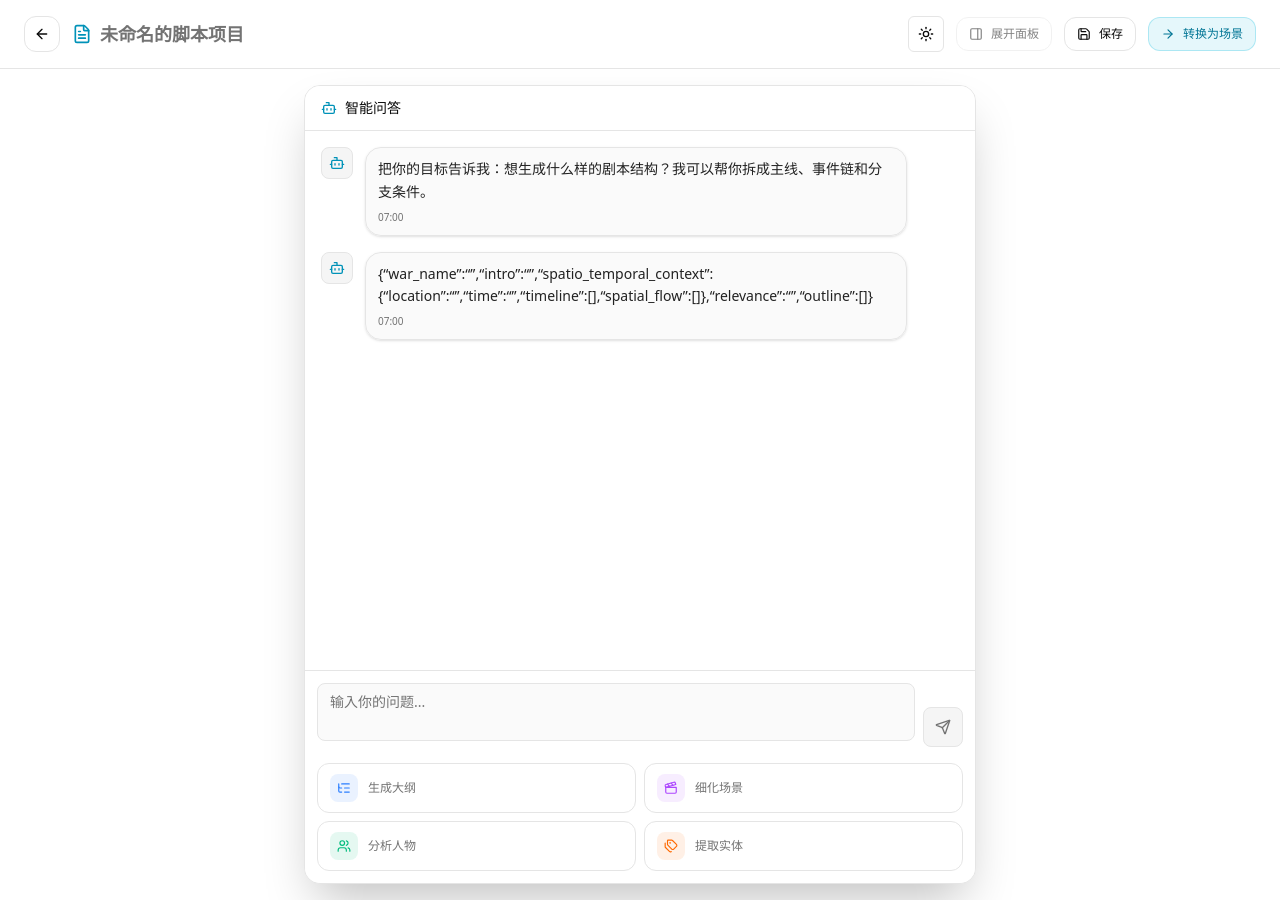
it: Script Page - Q&A Analysis Flow › should allow user to cancel the analysis
This screenshot has width=1280, height=900.
In the text box with placeholder "输入你的问题...": point(616, 712) x1=317 y1=683 x2=915 y2=741, type "取消测试"
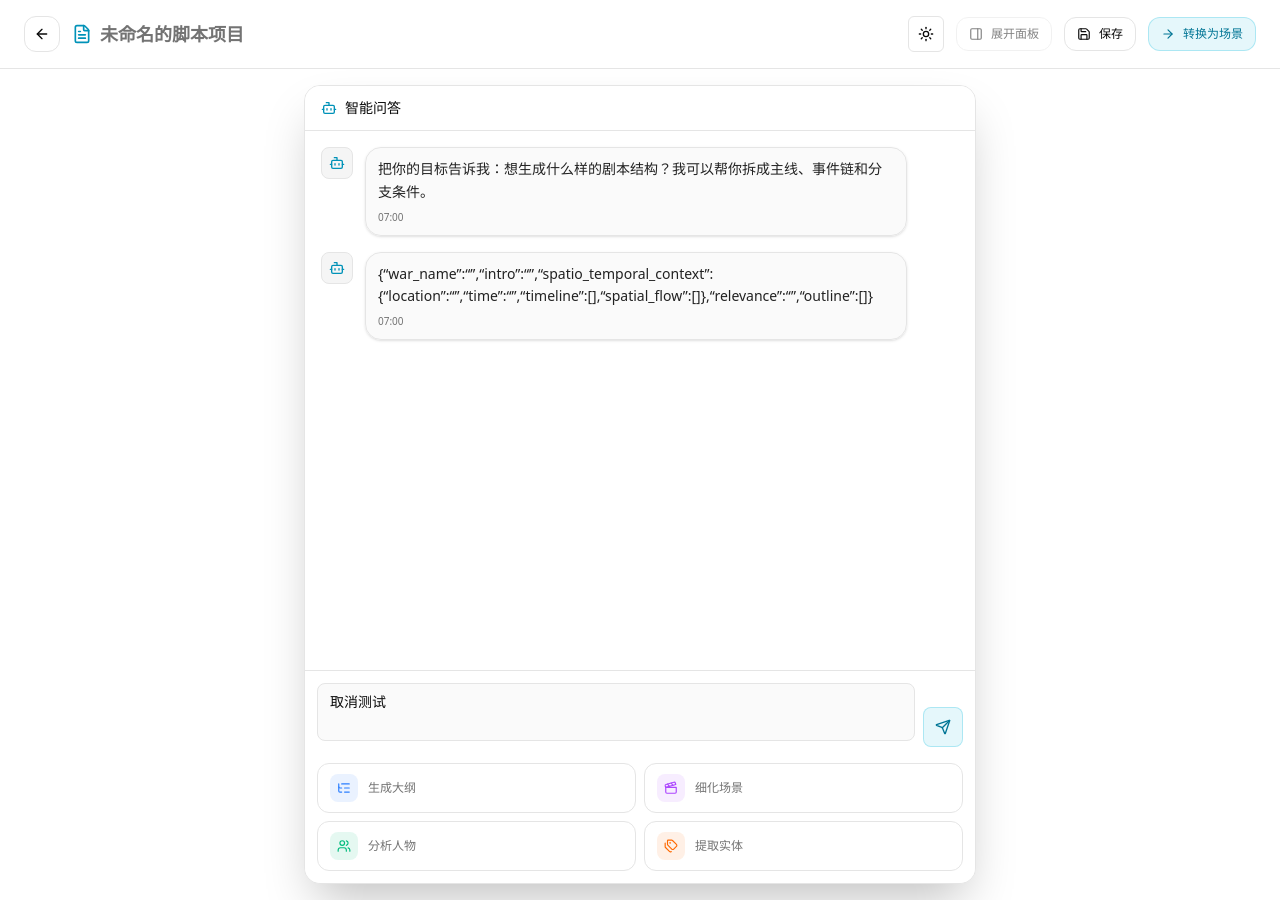
Click the button named "发送问题": point(943, 727) x1=923 y1=707 x2=963 y2=747
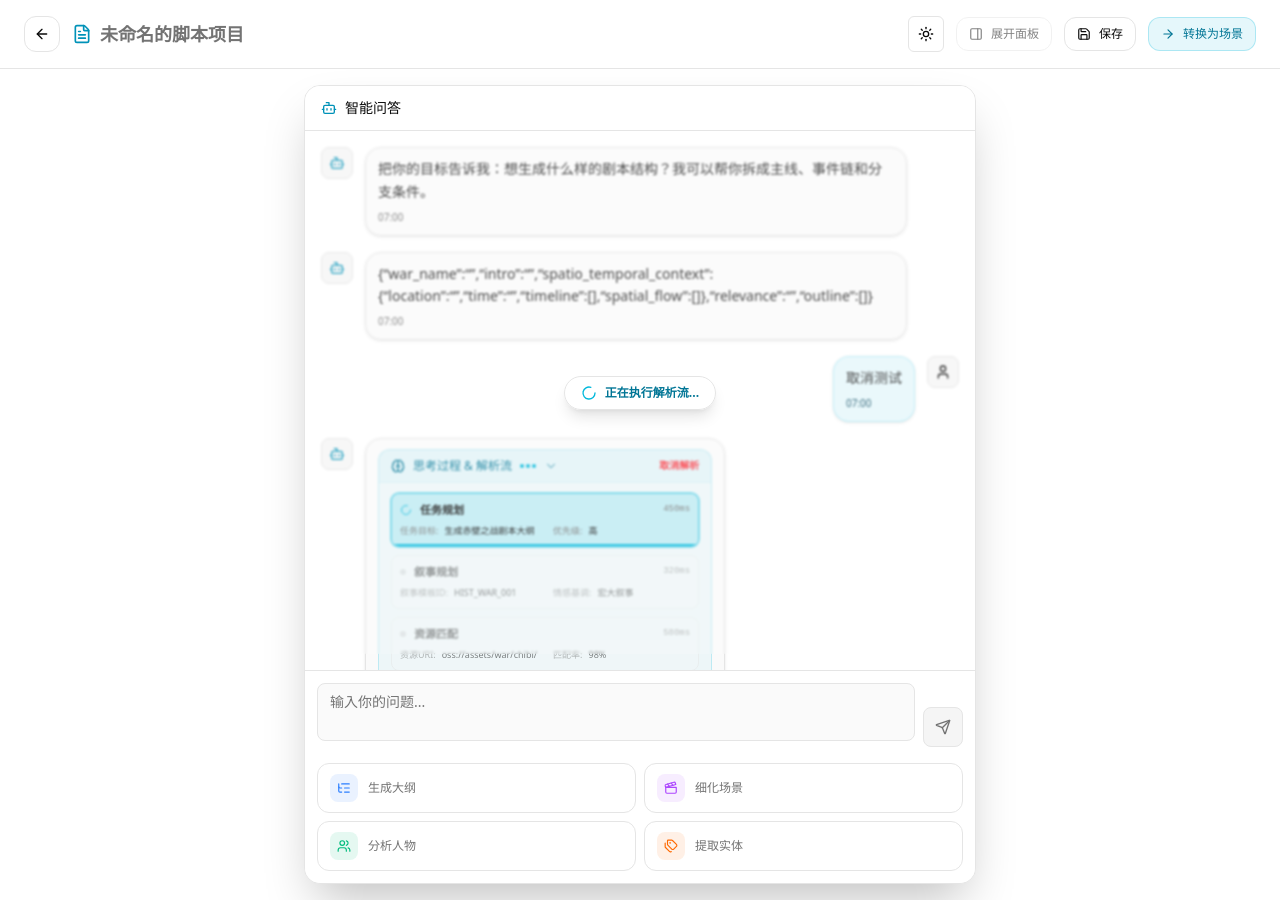
Click the button "取消解析": point(679, 466) x1=659 y1=458 x2=699 y2=473
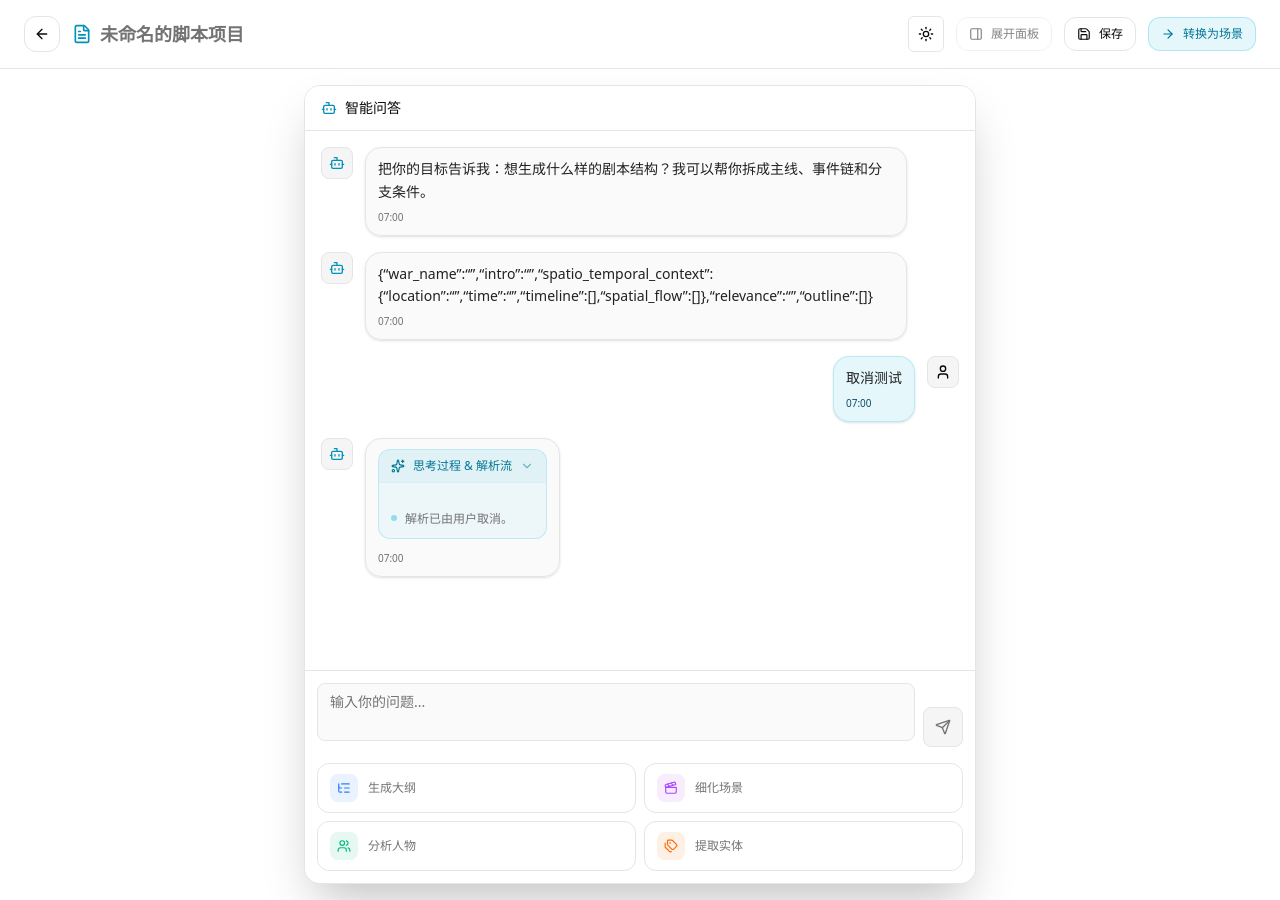
Result: the text "解析已由用户取消。" is shown at x1=405 y1=509 x2=513 y2=528
